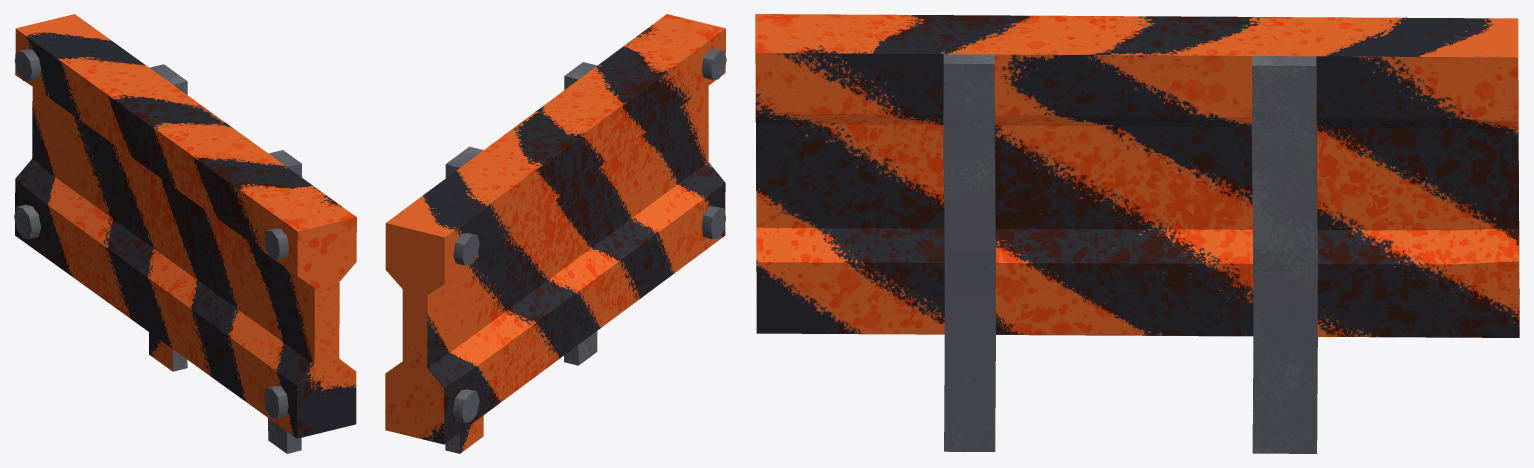
The model's file is guardrail(straight)_v02.fbx.
The picture shows the model from 3 angles, left to right: view 1: azimuth 30°, elevation 25°; view 2: azimuth 150°, elevation 25°; view 3: azimuth 270°, elevation 25°; orthographic projection. The views are drawn at different scales.
Parts seen in each view (by area): view 1: pasted__pasted__pasted__pCube3; view 2: pasted__pasted__pasted__pCube3; view 3: pasted__pasted__pasted__pCube3.
Boxes of the visible parts, x1,y1,x2,y2 form: pasted__pasted__pasted__pCube3: (14,14,356,453); pasted__pasted__pasted__pCube3: (385,14,726,453); pasted__pasted__pasted__pCube3: (755,14,1519,453).
Bounding box in the file's own units: 130 × 429 × 759.
